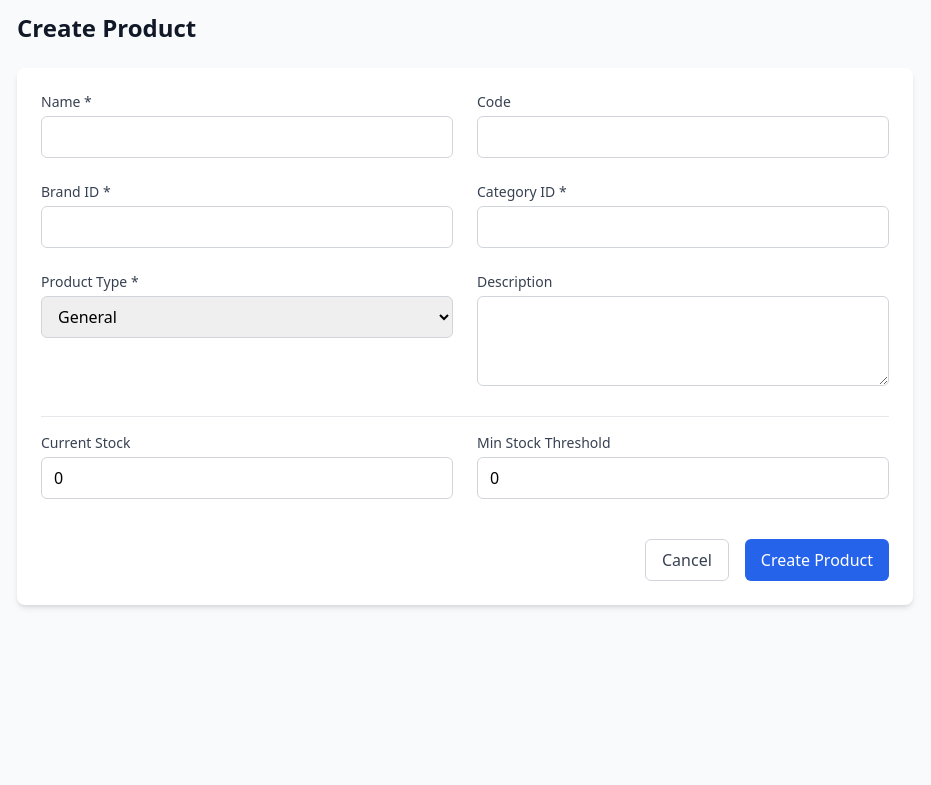
Test: ProductFormPage › shows viscosity and capacity fields when product type is motor-oil
Select "Motor Oil" in the dropdown labelled "Product Type *": (247, 317) [41,296,453,338]
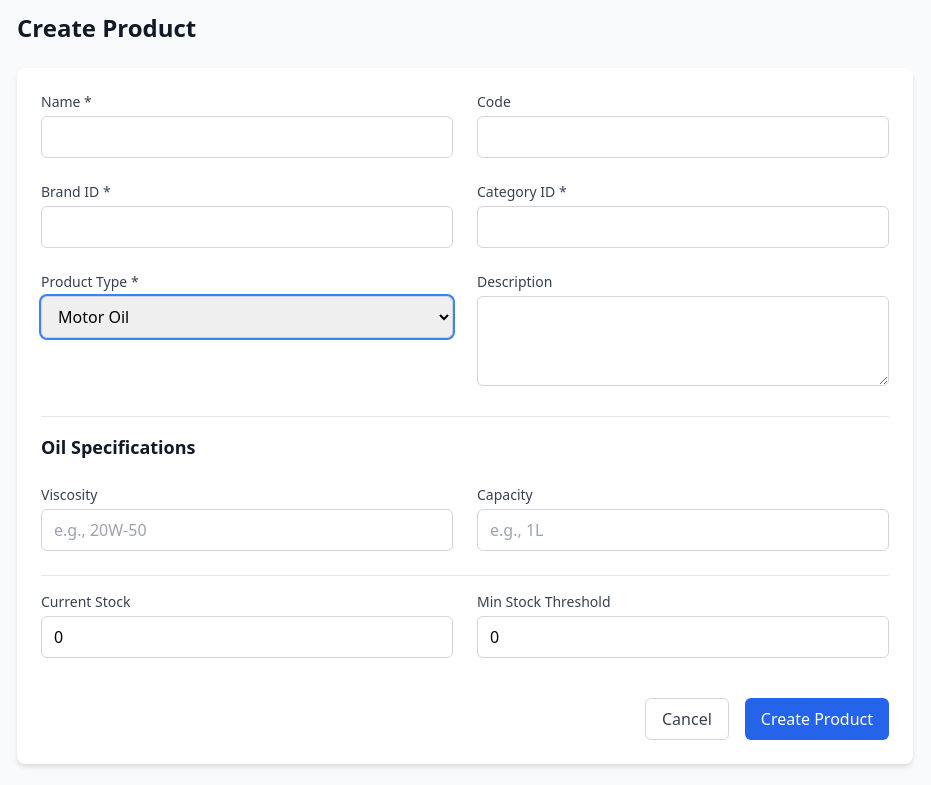
Result: the field labelled "Viscosity" is shown at [41,509,453,551]
Result: the field labelled "Capacity" is shown at [477,509,889,551]
